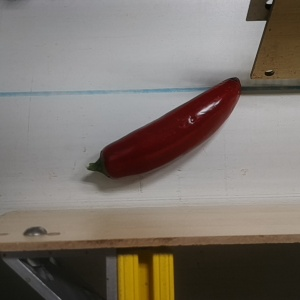Cut Point: (93, 146, 122, 181)
